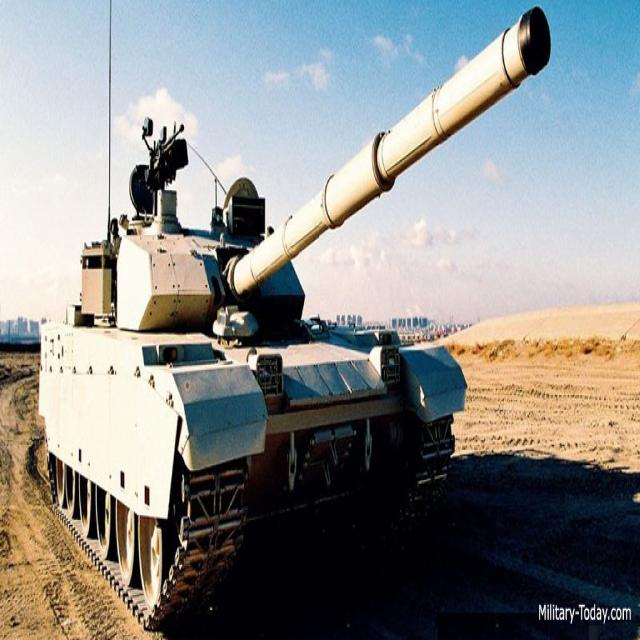Tank: (25, 15, 552, 558)
